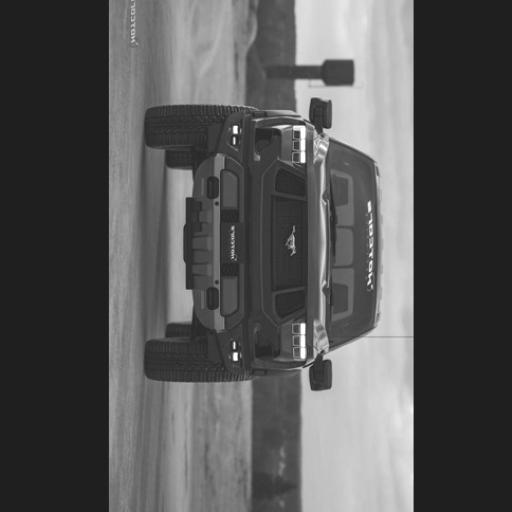truck: (146, 99, 382, 391)
